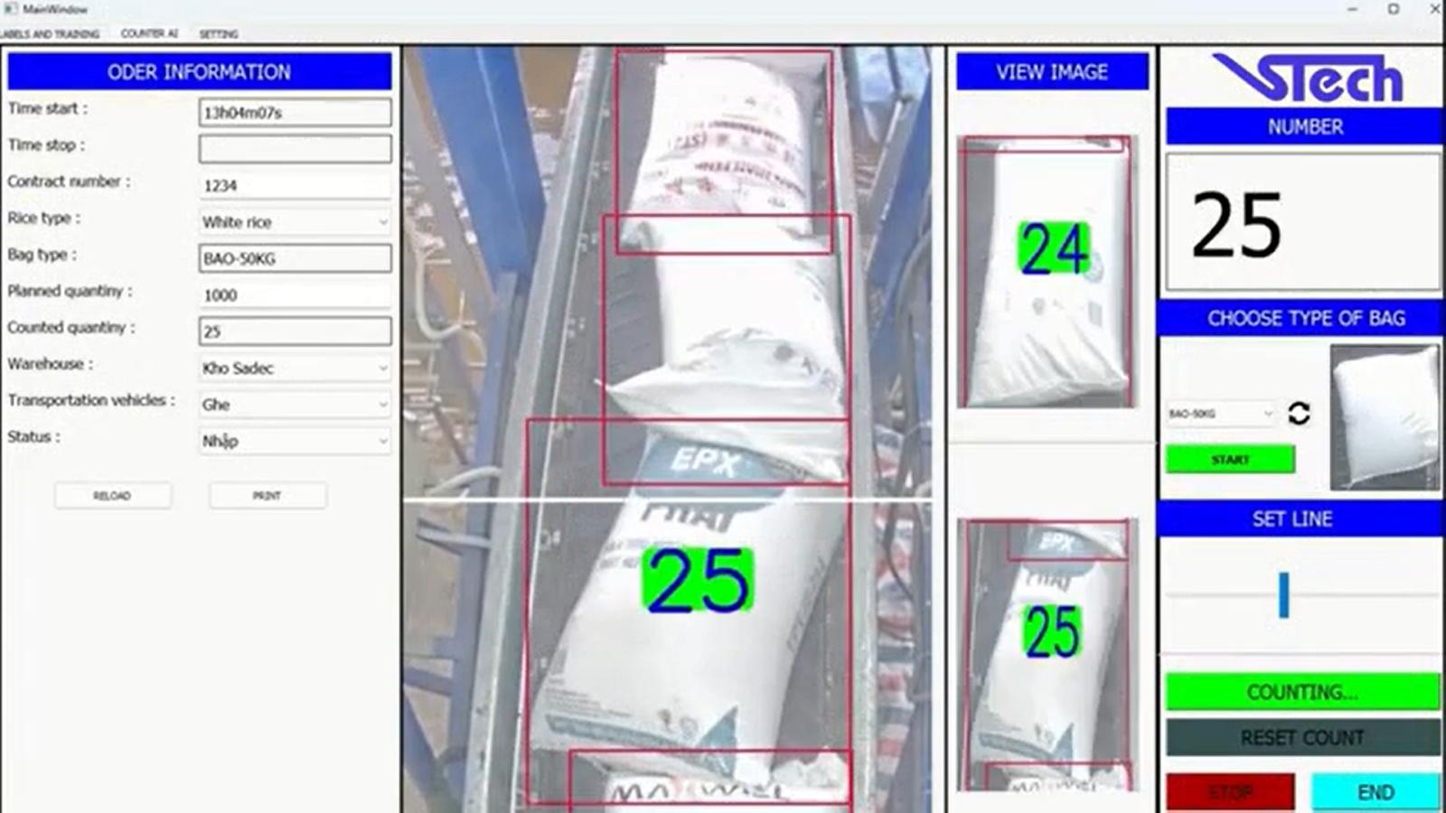rice-bag: (531, 435, 844, 781), (608, 218, 844, 479), (964, 139, 1131, 406), (972, 524, 1126, 775), (623, 51, 822, 218)
